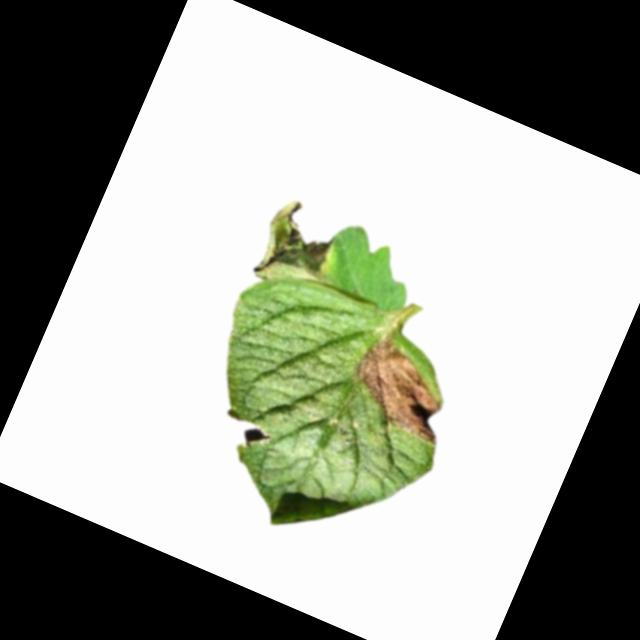Late_blight: (339, 326, 472, 448), (247, 195, 348, 302)
